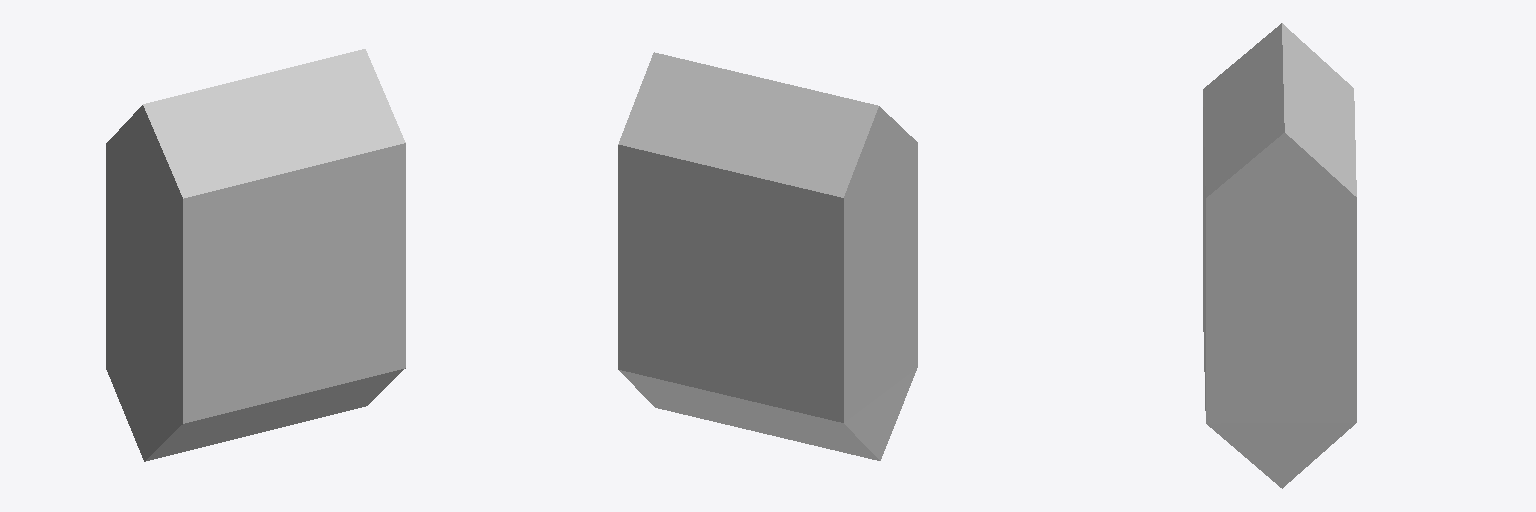
The model's file is Sugar.obj.
The picture shows the model from 3 angles: view 1: azimuth 30°, elevation 25°; view 2: azimuth 150°, elevation 25°; view 3: azimuth 270°, elevation 25°; orthographic projection.
Parts seen in each view (by area): view 1: Sugar:pCube3; view 2: Sugar:pCube3; view 3: Sugar:pCube3.
Boxes of the visible parts, <box> form: Sugar:pCube3: <box>106,49,405,461</box>; Sugar:pCube3: <box>618,52,917,460</box>; Sugar:pCube3: <box>1203,23,1356,488</box>.
Size of the model in its own units: 2.01 by 3.04 by 1.19.